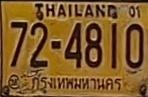0: (125, 23, 143, 68)
1: (111, 23, 116, 67)
2: (30, 22, 48, 67)
4: (64, 22, 81, 67)
7: (10, 21, 27, 66)
8: (84, 22, 101, 67)
BKK: (28, 74, 124, 94)
